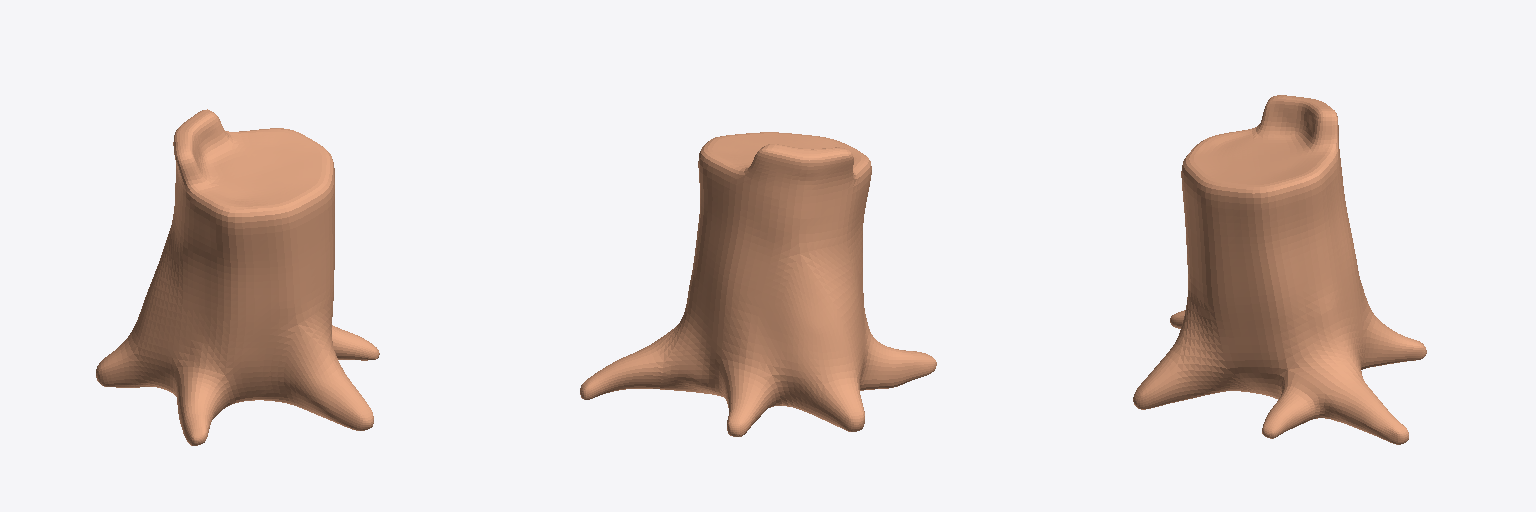
Rendered from trueStump.obj.
3 renders of one model, left to right at view 1: azimuth 30°, elevation 25°; view 2: azimuth 150°, elevation 25°; view 3: azimuth 270°, elevation 25°, orthographic.
Visible parts, largest first — view 1: treeStump; view 2: treeStump; view 3: treeStump.
Part boxes in pixels (bbox=[...]): treeStump: bbox=[96, 109, 379, 445]; treeStump: bbox=[580, 132, 936, 436]; treeStump: bbox=[1133, 95, 1426, 444].
Size of the model in its own units: 166 by 167 by 166.